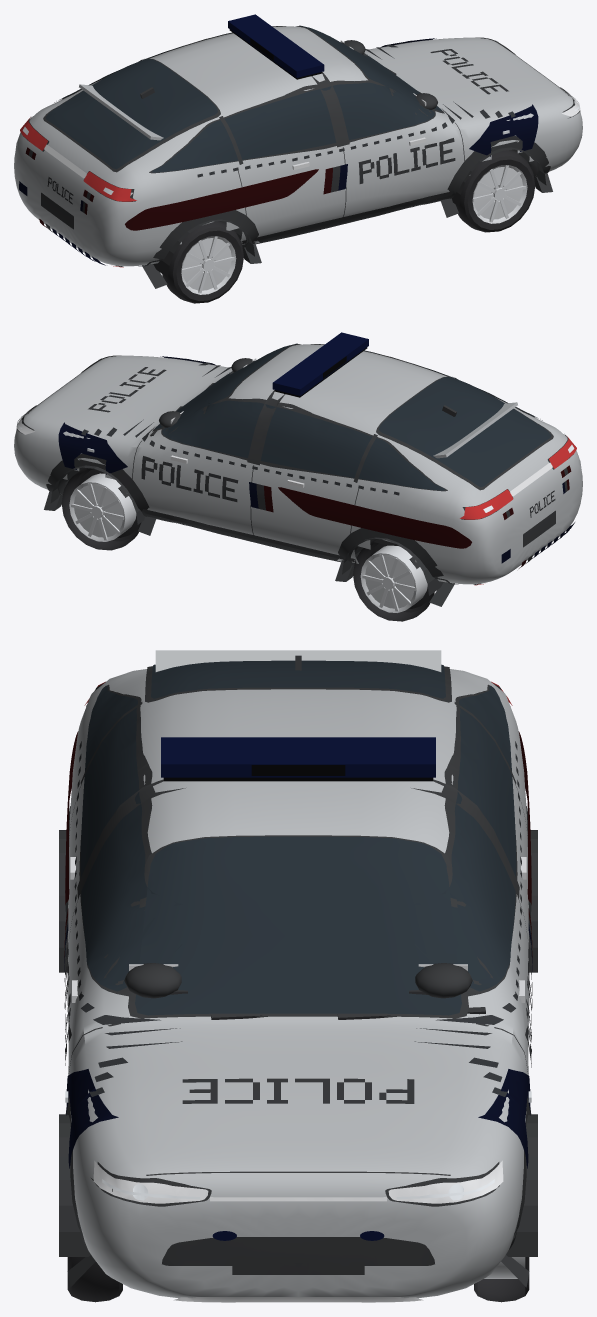
Rendered from police_pn.glb.
3 views of the same model, one above another, from view 1: azimuth 30°, elevation 25°; view 2: azimuth 150°, elevation 25°; view 3: azimuth 270°, elevation 25° (orthographic). The views are drawn at different scales.
Visible parts, largest first — view 1: Body, Glass-1, RearGlass, WheelRR, WheelFR, PNRed-1, LightBar, ArchTrim-1.001, ArchTrim-1, PNArrowB-1, Windshield, WinFrame-1 (+9 smaller); view 2: Body, Glass1, RearGlass, WheelFL, WheelRL, PNRed1, LightBar, ArchTrim1.001, ArchTrim1, PNArrowB1, Windshield, WinFrame1 (+9 smaller); view 3: Body, Windshield, Glass1, Glass-1, LightBar, RearGlass, Intake, Spoiler, HeadReflector, WsFrame, ArchLiner, ArchLiner.001 (+19 smaller).
Part boxes in pixels (bbox=[...]): Body: bbox=[14, 26, 582, 266]; Glass-1: bbox=[152, 80, 434, 172]; RearGlass: bbox=[45, 59, 217, 169]; WheelRR: bbox=[162, 221, 243, 303]; WheelFR: bbox=[455, 150, 535, 232]; PNRed-1: bbox=[125, 169, 318, 230]; LightBar: bbox=[228, 14, 324, 77]; ArchTrim-1.001: bbox=[142, 210, 261, 288]; ArchTrim-1: bbox=[440, 135, 552, 217]; PNArrowB-1: bbox=[469, 104, 538, 156]; Windshield: bbox=[299, 25, 441, 110]; WinFrame-1: bbox=[149, 80, 435, 173]; Body: bbox=[14, 344, 582, 584]; Glass1: bbox=[162, 398, 444, 490]; RearGlass: bbox=[379, 377, 551, 487]; WheelFL: bbox=[61, 468, 141, 550]; WheelRL: bbox=[353, 539, 434, 621]; PNRed1: bbox=[278, 487, 471, 548]; LightBar: bbox=[272, 332, 368, 395]; ArchTrim1.001: bbox=[335, 528, 454, 606]; ArchTrim1: bbox=[44, 453, 156, 535]; PNArrowB1: bbox=[58, 422, 127, 474]; Windshield: bbox=[155, 343, 297, 428]; WinFrame1: bbox=[161, 398, 447, 491]; Body: bbox=[68, 669, 528, 1298]; Windshield: bbox=[135, 836, 461, 1015]; Glass1: bbox=[414, 685, 516, 991]; Glass-1: bbox=[80, 685, 182, 991]; LightBar: bbox=[161, 737, 435, 777]; RearGlass: bbox=[151, 660, 445, 698]; Intake: bbox=[162, 1237, 434, 1266]; Spoiler: bbox=[155, 650, 441, 671]; HeadReflector: bbox=[93, 1160, 503, 1203]; WsFrame: bbox=[128, 835, 468, 1018]; ArchLiner: bbox=[506, 1114, 537, 1256]; ArchLiner.001: bbox=[59, 1114, 90, 1256].
Bounding box in the file's own units: 4.57 × 1.71 × 1.95.
